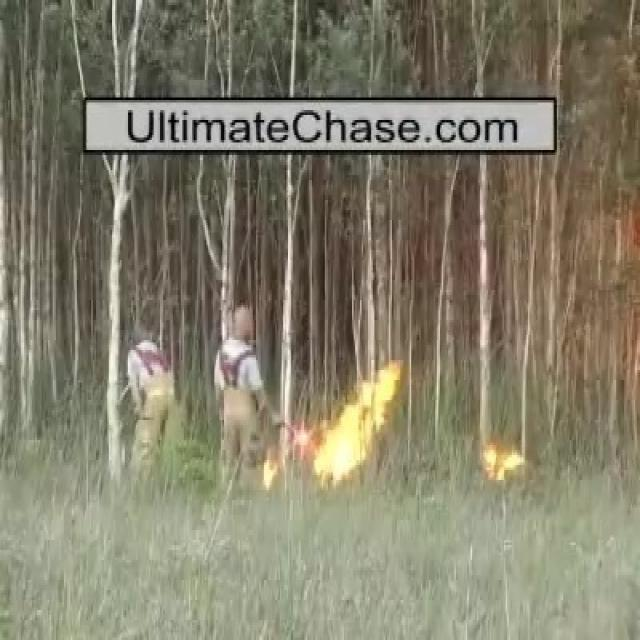fire: (286, 352, 404, 480), (488, 446, 522, 480)
